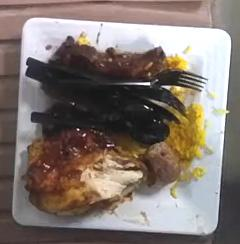chicken: (25, 129, 146, 215)
ribs: (49, 36, 166, 79)
rice: (165, 103, 205, 160)
